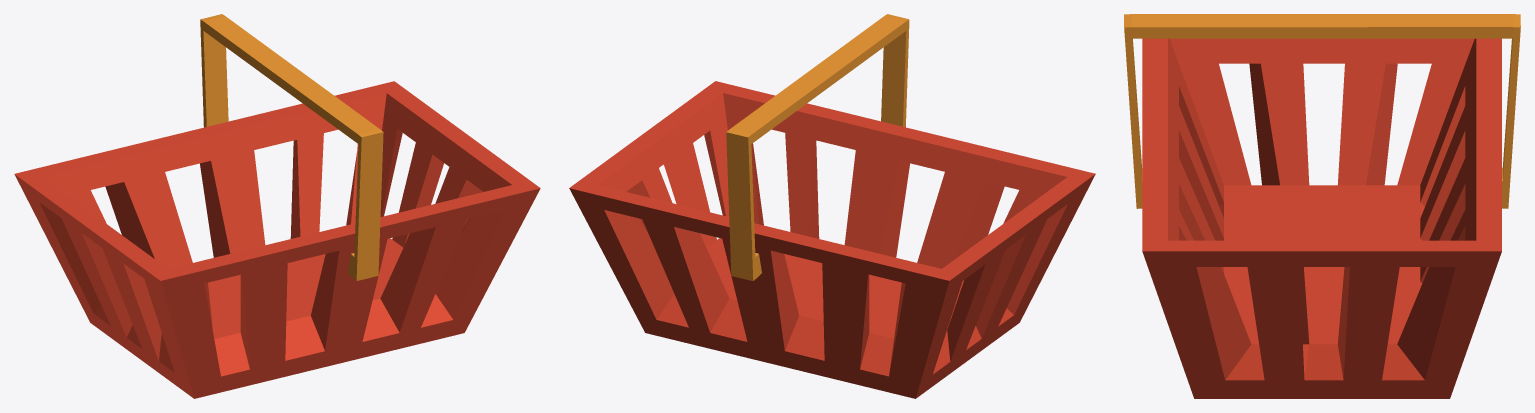
File: basket.fbx
3 views of the same model, side by side, from view 1: azimuth 30°, elevation 25°; view 2: azimuth 150°, elevation 25°; view 3: azimuth 270°, elevation 25° (orthographic). The views are drawn at different scales.
Parts seen in each view (by area): view 1: Box001; view 2: Box001; view 3: Box001.
Part boxes in pixels (box(x1,y1,x2,y2)): Box001: box(14, 14, 540, 398); Box001: box(569, 14, 1095, 398); Box001: box(1124, 14, 1520, 398).
Size of the model in its own units: 42.19 by 26.4 by 31.02.
Materials: 1 (1 with a texture image).
